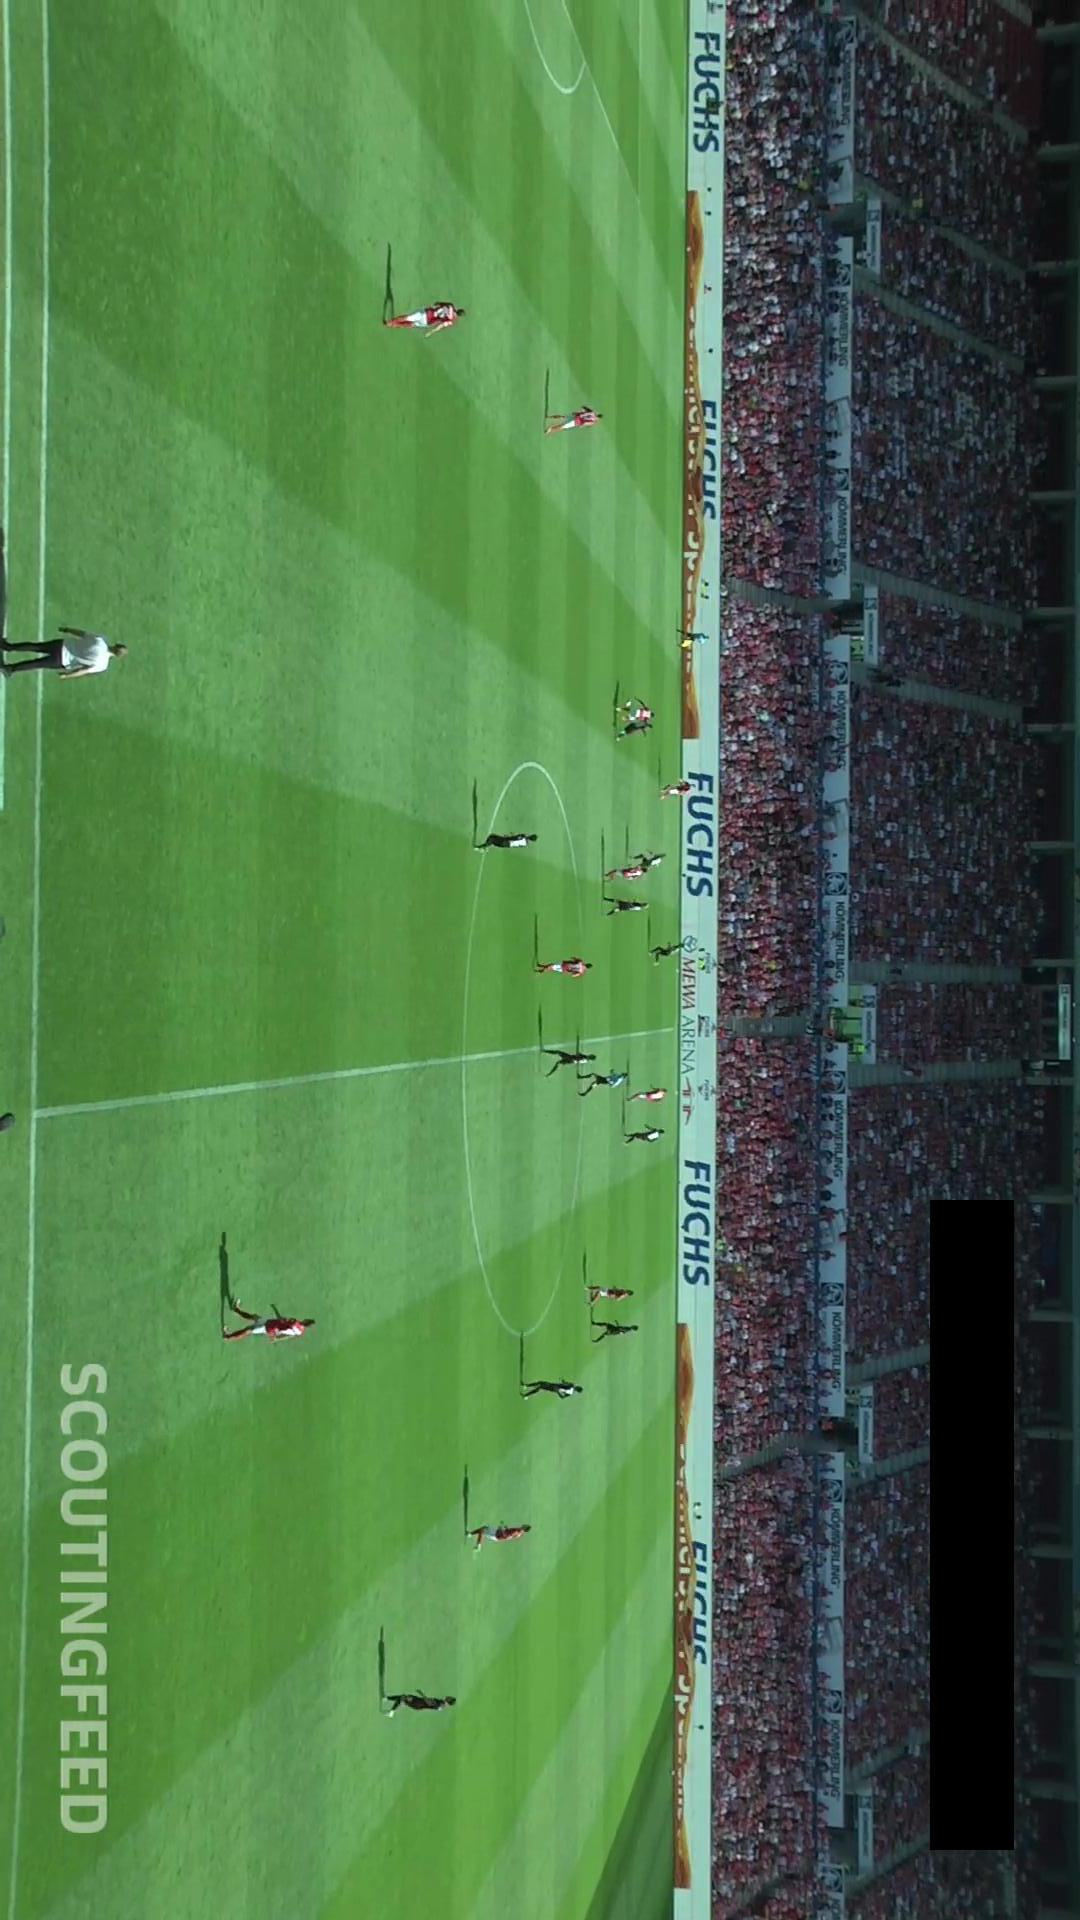ball: (623, 699, 634, 708)
player: (222, 1296, 316, 1344), (383, 302, 466, 338), (381, 1688, 457, 1716), (466, 1521, 533, 1552), (544, 405, 604, 436), (541, 1048, 597, 1079), (520, 1378, 585, 1400), (474, 832, 539, 853), (534, 956, 594, 977), (591, 1319, 638, 1343), (584, 1285, 635, 1307), (614, 699, 654, 726), (602, 895, 649, 917), (647, 941, 686, 966), (623, 1124, 666, 1144), (614, 720, 652, 741), (659, 779, 695, 800), (627, 1087, 669, 1105), (604, 865, 648, 882), (629, 851, 667, 869)
referee: (577, 1069, 630, 1098), (676, 629, 712, 648)
